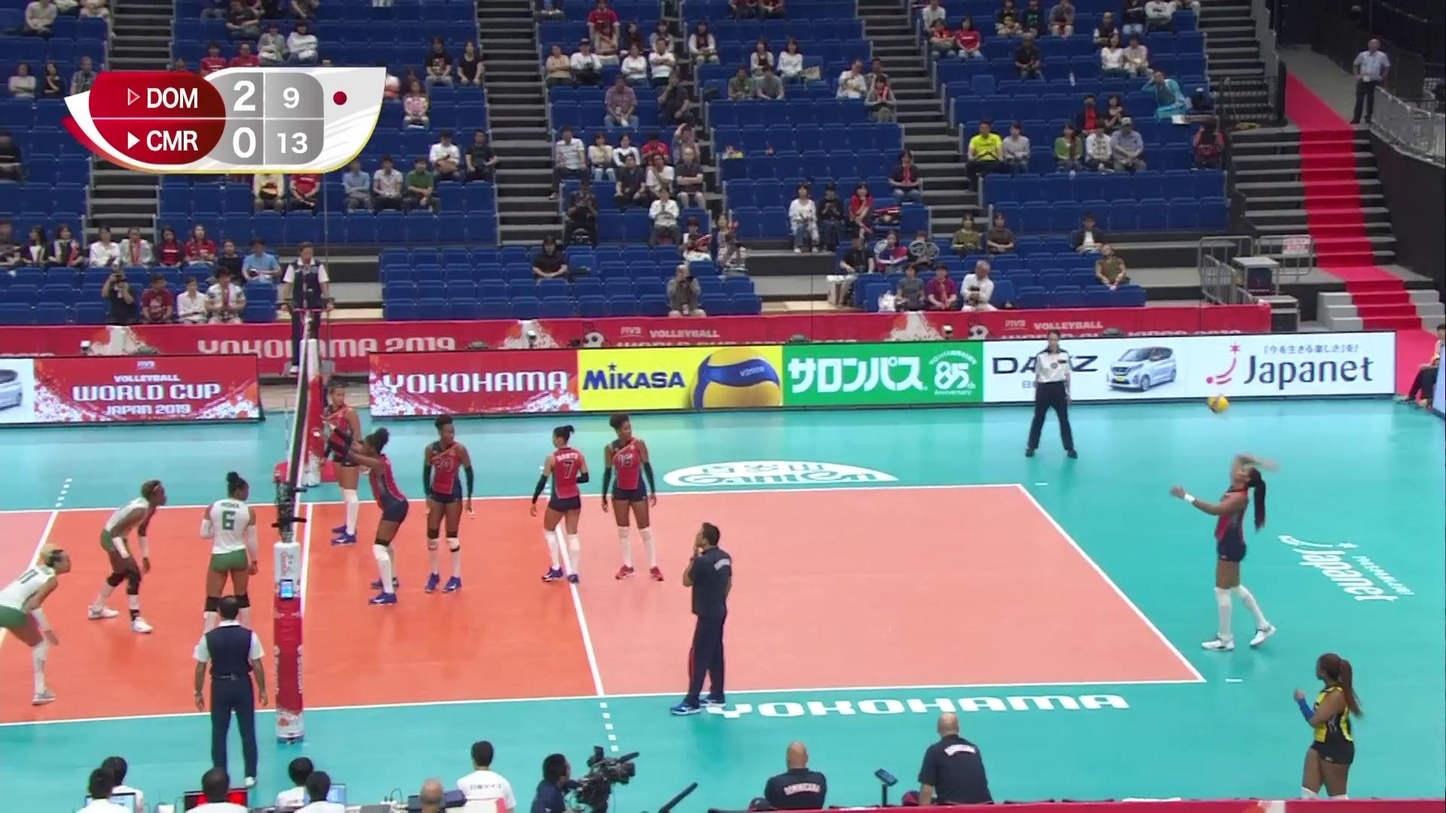player: (1178, 455, 1270, 651), (325, 429, 407, 602), (0, 548, 73, 704), (90, 480, 165, 631), (199, 473, 258, 653), (421, 417, 476, 593), (531, 429, 593, 585), (601, 415, 659, 577), (325, 386, 362, 544)
refree: (195, 604, 265, 786), (1023, 330, 1078, 458), (285, 242, 329, 370)
